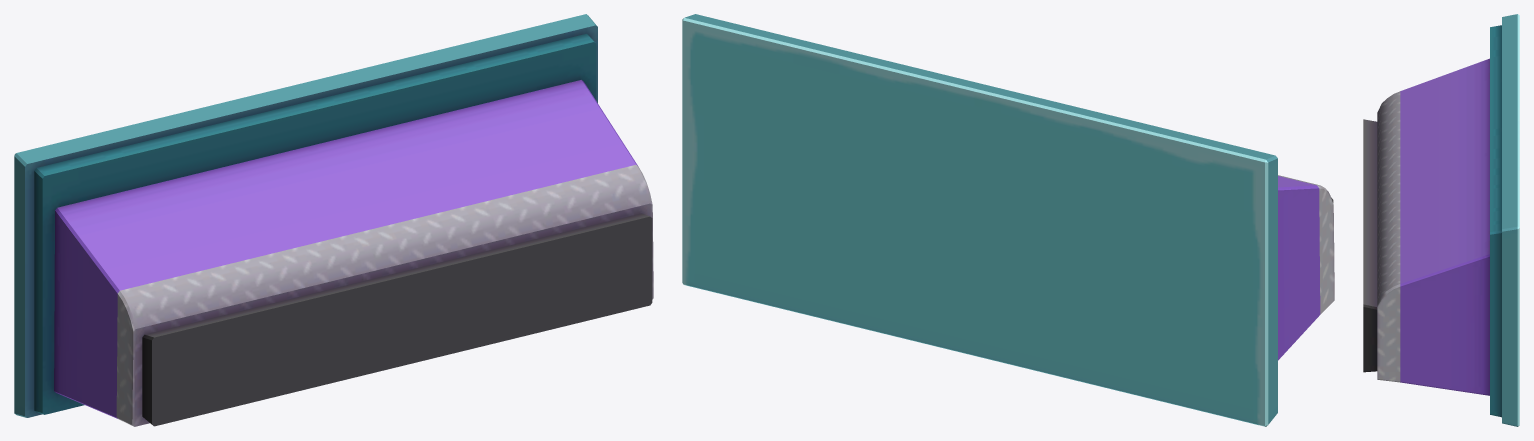
The model's file is FoodCounter.fbx.
3 views of the same model, side by side, from view 1: azimuth 30°, elevation 25°; view 2: azimuth 150°, elevation 25°; view 3: azimuth 270°, elevation 25° (orthographic). The views are drawn at different scales.
Visible parts, largest first — view 1: FoodCounter; view 2: FoodCounter; view 3: FoodCounter.
Boxes of the visible parts, x1,y1,x2,y2 form: FoodCounter: (14, 14, 653, 426); FoodCounter: (682, 14, 1334, 426); FoodCounter: (1363, 14, 1519, 426).
Size of the model in its own units: 174 by 75.67 by 53.47.
Materials: 1 (1 with a texture image).
